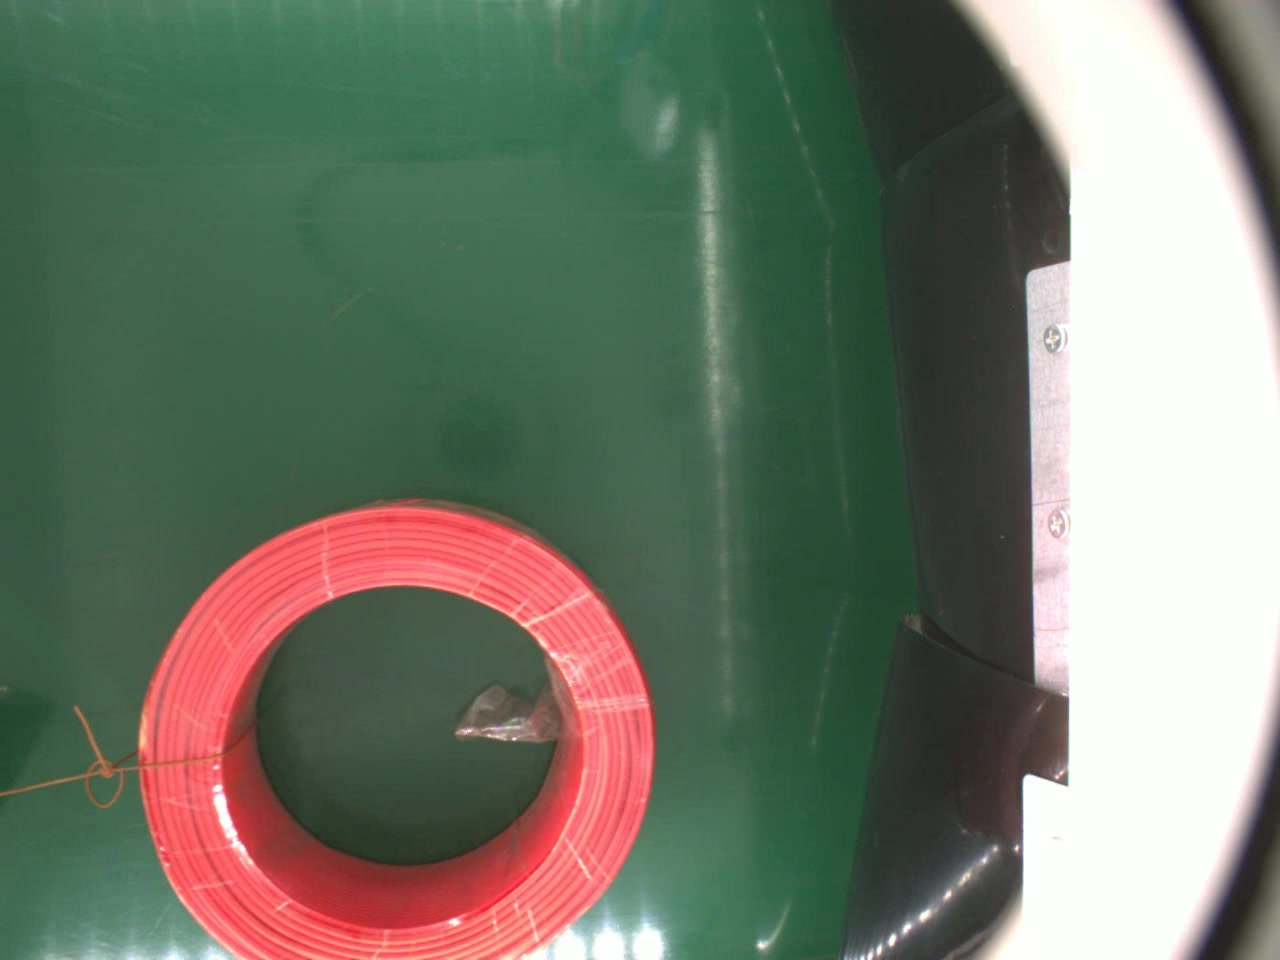red: (131, 498, 663, 959)
